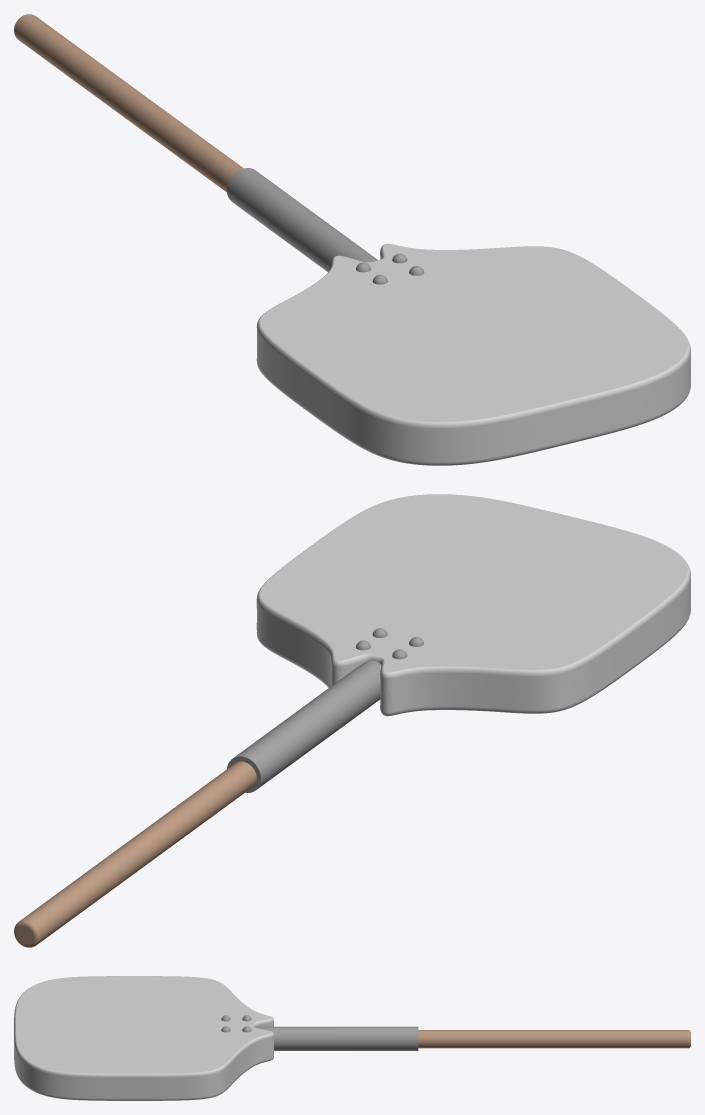
Rendered from oven_tool.fbx.
3 views of the same model, one above another, from view 1: azimuth 30°, elevation 25°; view 2: azimuth 150°, elevation 25°; view 3: azimuth 270°, elevation 25° (orthographic). The views are drawn at different scales.
Parts seen in each view (by area): view 1: tool_for_oven; view 2: tool_for_oven; view 3: tool_for_oven.
Part boxes in pixels (box(x1,y1,x2,y2)): tool_for_oven: box(14, 14, 690, 465); tool_for_oven: box(14, 494, 690, 947); tool_for_oven: box(14, 976, 690, 1100).
Size of the model in its own units: 224 by 32.57 by 647.
